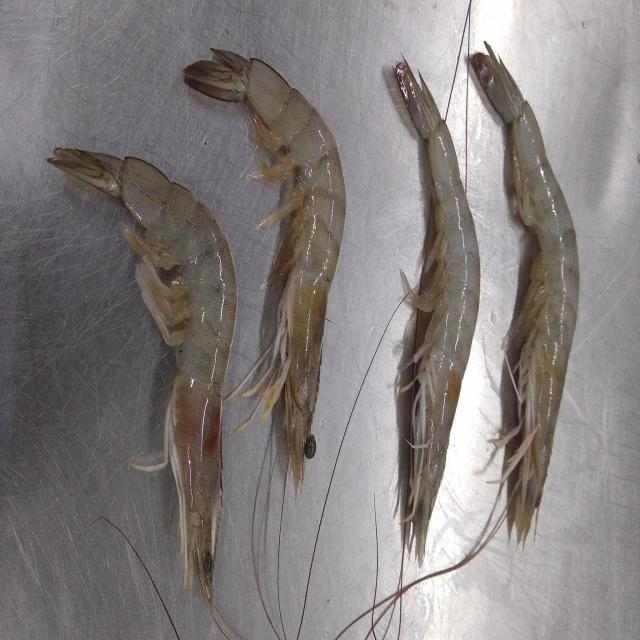shrimp: (49, 147, 238, 631), (184, 49, 346, 493), (471, 44, 579, 542), (395, 60, 480, 562)
